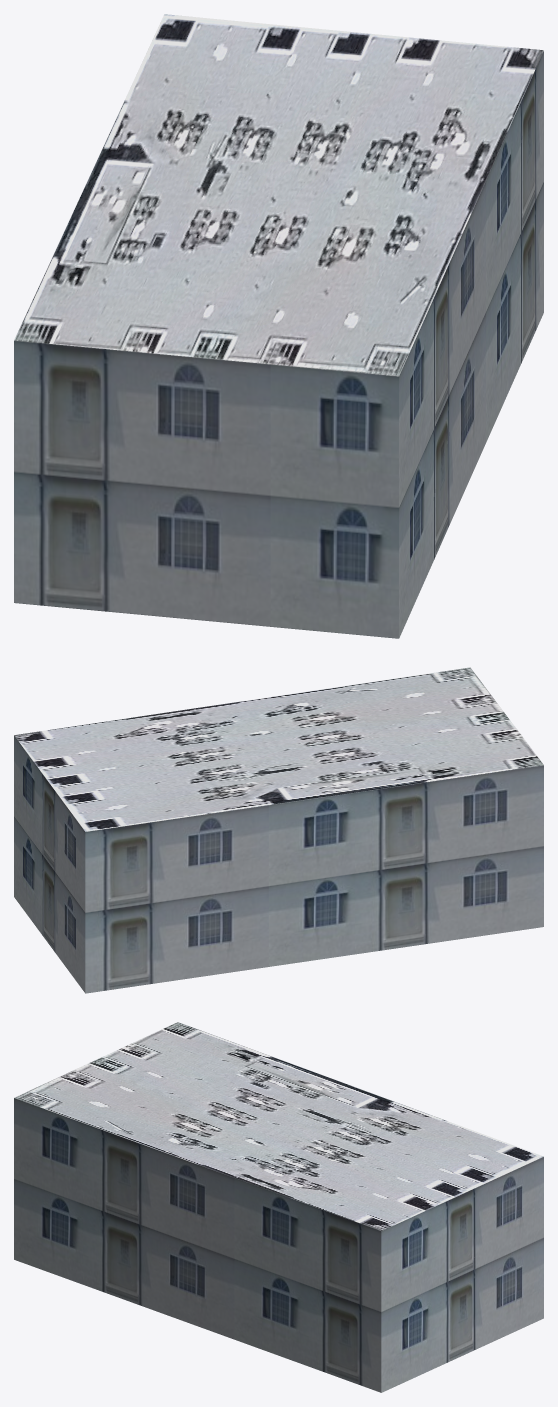
Rendered from ResTex__1666.fbx.
3 views of the same model, one above another, from view 1: azimuth 30°, elevation 25°; view 2: azimuth 150°, elevation 25°; view 3: azimuth 270°, elevation 25° (orthographic). The views are drawn at different scales.
Parts seen in each view (by area): view 1: CityEngineMaterial_17_m, CityEngineMaterial_4_m; view 2: CityEngineMaterial_17_m, CityEngineMaterial_4_m; view 3: CityEngineMaterial_17_m, CityEngineMaterial_4_m.
Part boxes in pixels (bbox=[...]): CityEngineMaterial_17_m: bbox=[14, 51, 543, 638]; CityEngineMaterial_4_m: bbox=[14, 14, 543, 376]; CityEngineMaterial_17_m: bbox=[14, 735, 543, 993]; CityEngineMaterial_4_m: bbox=[14, 667, 543, 831]; CityEngineMaterial_17_m: bbox=[14, 1098, 543, 1392]; CityEngineMaterial_4_m: bbox=[14, 1022, 543, 1230].
Size of the model in its own units: 16.63 by 6 by 17.81.
2 materials, 2 textured.
